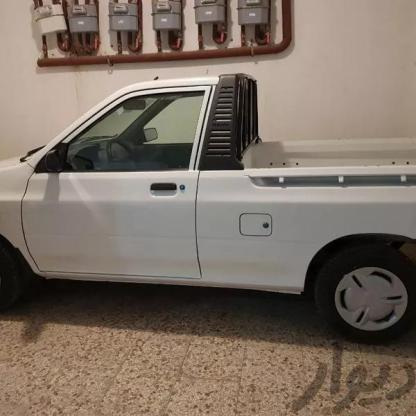Car: (0, 68, 416, 337)
